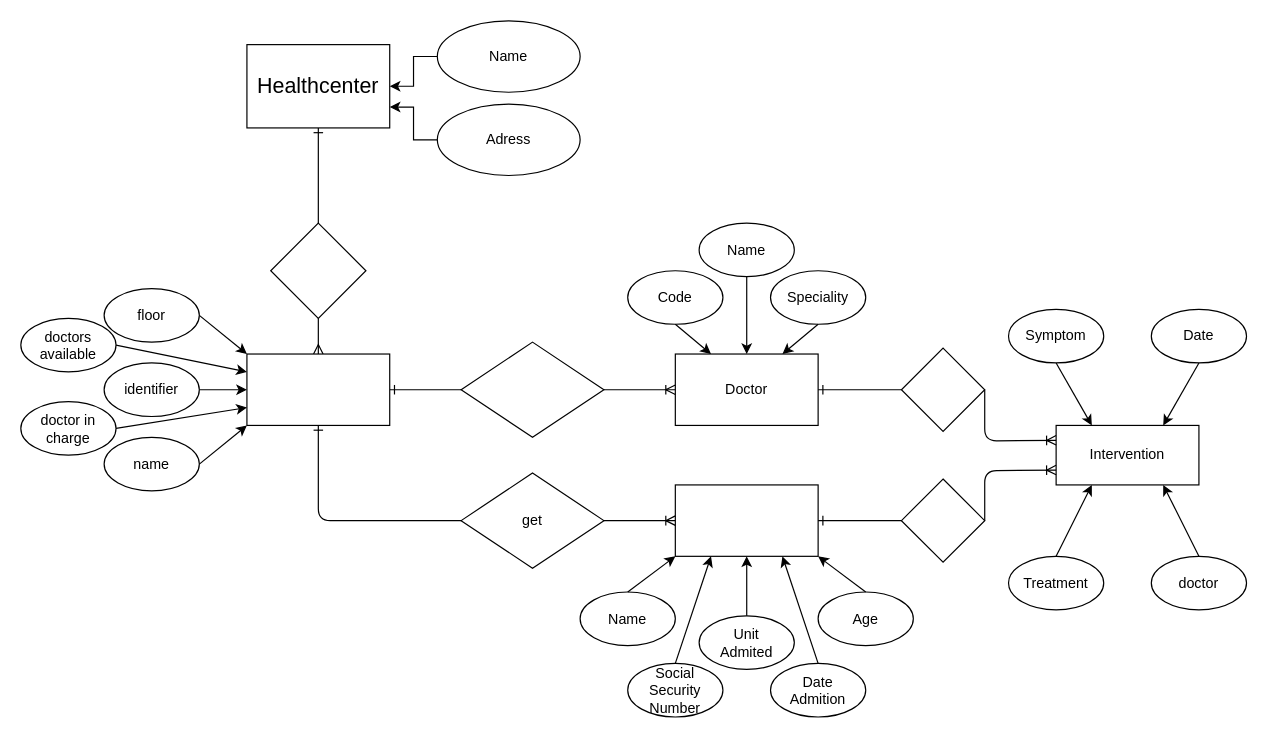
Image size: 1267x738. Some labels were removed from this diagram. Each missing label, with the centre of its shape:
contains: pixel 532 389
create: pixel 942 389
has: pixel 318 270
patient: pixel 746 520
processes: pixel 942 520
Unit: pixel 318 389
